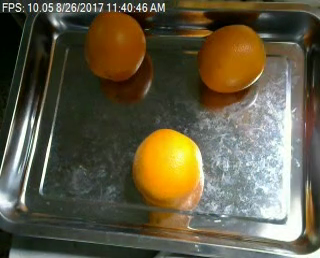Orange: (132, 129, 204, 206), (197, 24, 267, 91), (84, 12, 147, 81)
